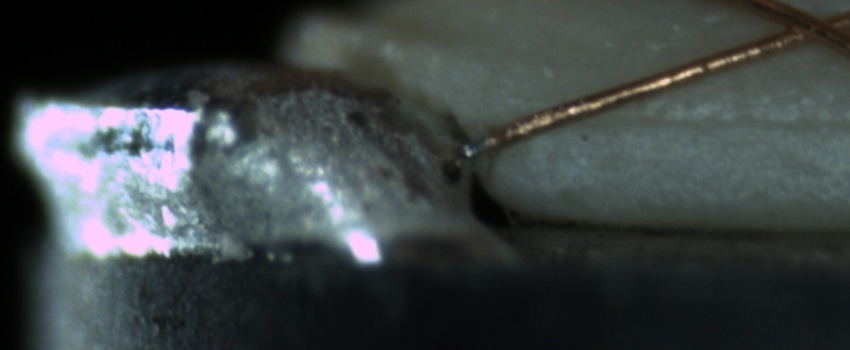CL: (758, 2, 849, 55)
DL: (561, 87, 850, 153)
TS: (459, 134, 491, 163)
